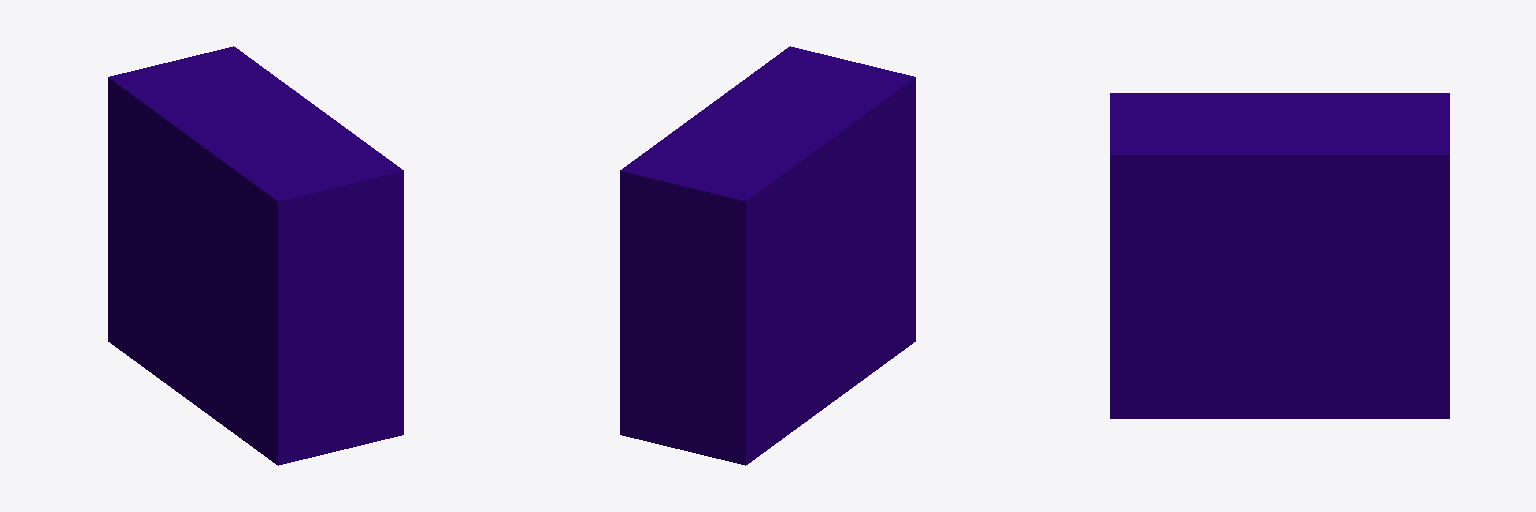
The model's file is GroenGebouw.obj.
3 renders of one model, left to right at view 1: azimuth 30°, elevation 25°; view 2: azimuth 150°, elevation 25°; view 3: azimuth 270°, elevation 25°, orthographic.
Visible parts, largest first — view 1: LaatsteGebouwRechts; view 2: LaatsteGebouwRechts; view 3: LaatsteGebouwRechts.
Boxes of the visible parts, box(x1,y1,x2,y2) form: LaatsteGebouwRechts: box(108, 46, 403, 465); LaatsteGebouwRechts: box(620, 46, 915, 465); LaatsteGebouwRechts: box(1110, 93, 1449, 418).
Size of the model in its own units: 1181 by 2362 by 2756.